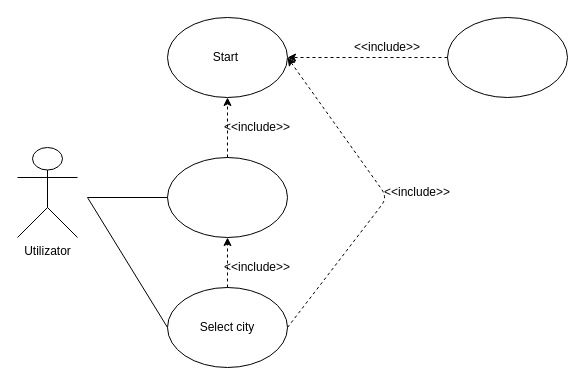
This 585x385 diagram has some shape labels left out. The centre of each missing label's shape, as x and y in pixels:
"Select country" goes at pixel 227 197.
"Stop application" goes at pixel 507 57.
